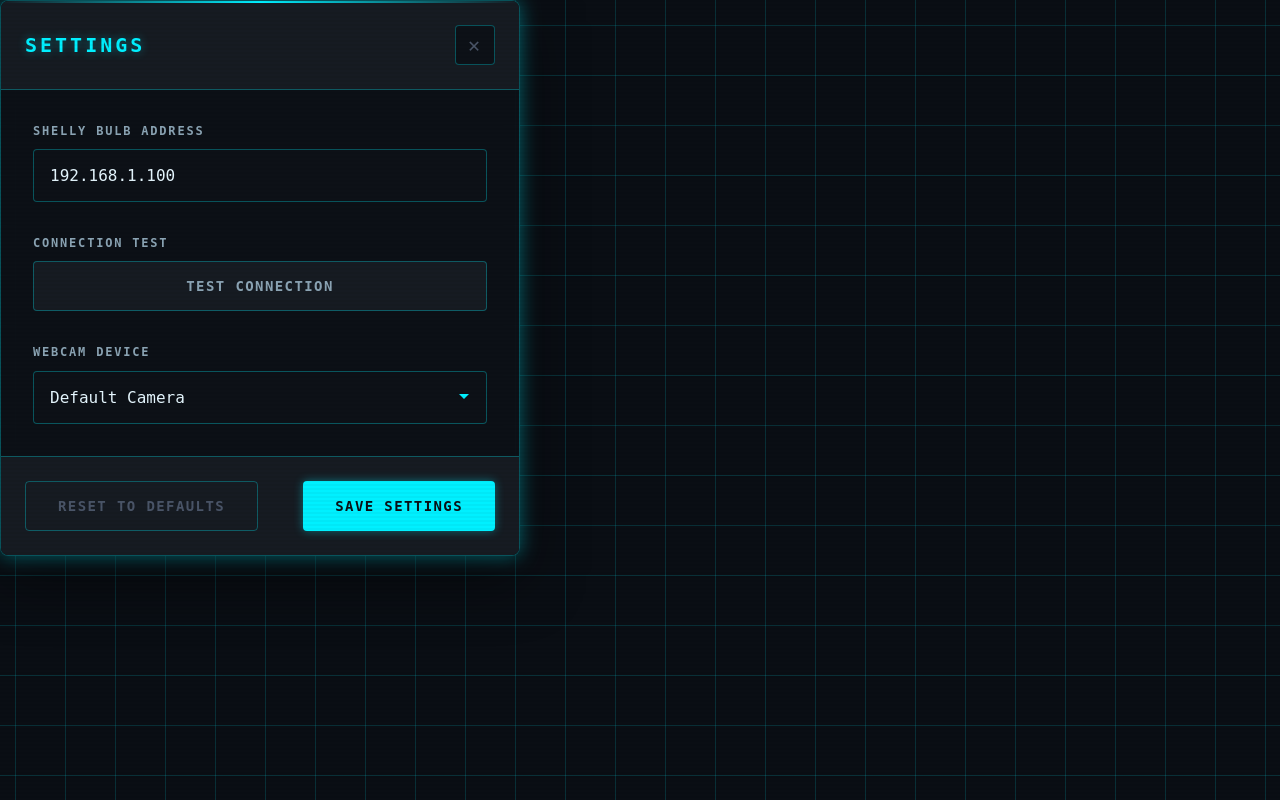
Test: SettingsPanel › Connection Test Button - Requirements: 8.3 › should show error message when connection test fails
Click the button with test id "test-connection-button".
click(260, 286)  # box [33,261,487,311]
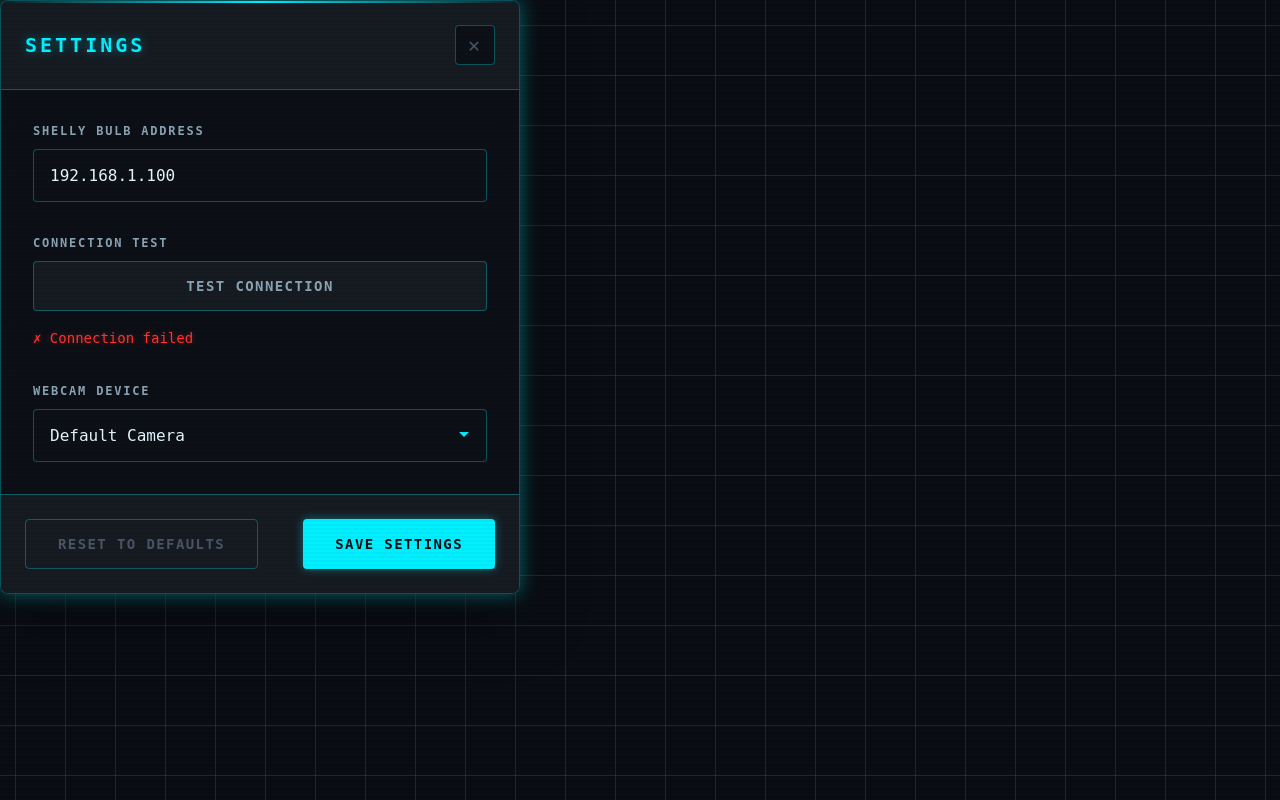
Expected: the text "✗ Connection failed" is shown, [33,330,193,346]
